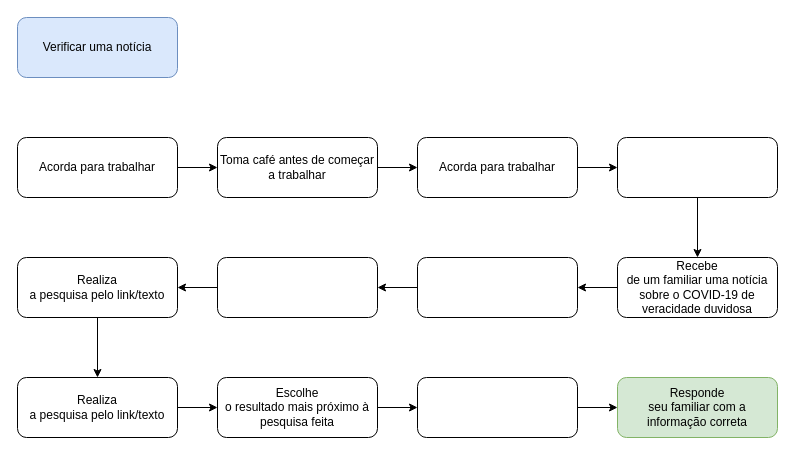
The diagram is 795 pixels wide and 455 high, and some of its shapes have lost their labels. The shapes that lost their labels are listed below. From the top down, each one's centre as x and y in pixels, then its label:
the point at 697,167: No horário do almoço decide ver os grupos de mensagens
the point at 297,287: Abre o COVID-Checkers
the point at 497,287: Copia o link ou texto enviado
the point at 497,407: Verifica quantas pessoas confirmaram a veracidade da notícia
